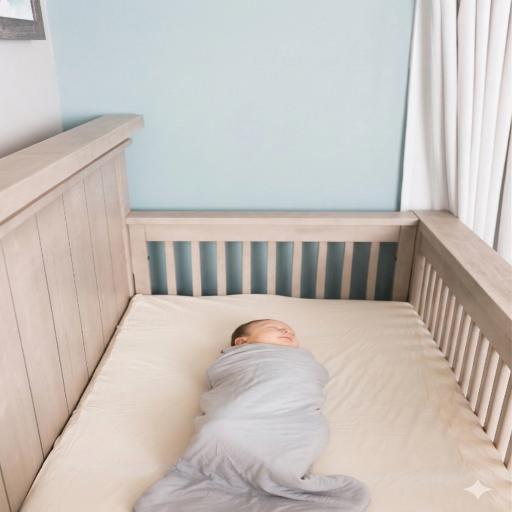baby: (135, 320, 369, 511)
crib: (0, 115, 511, 511)
